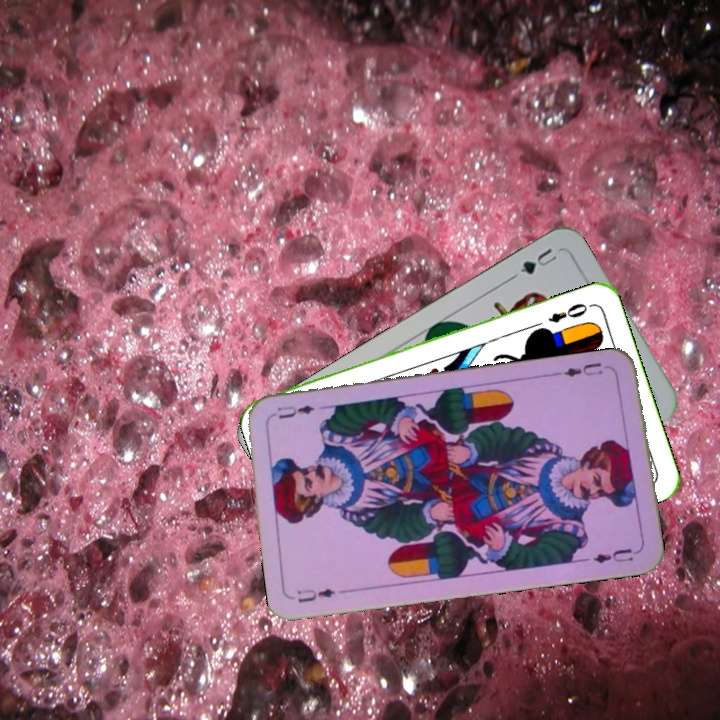EO: (544, 299, 595, 326)
EU: (555, 358, 614, 380), (293, 584, 338, 605)
GU: (515, 243, 560, 277)
